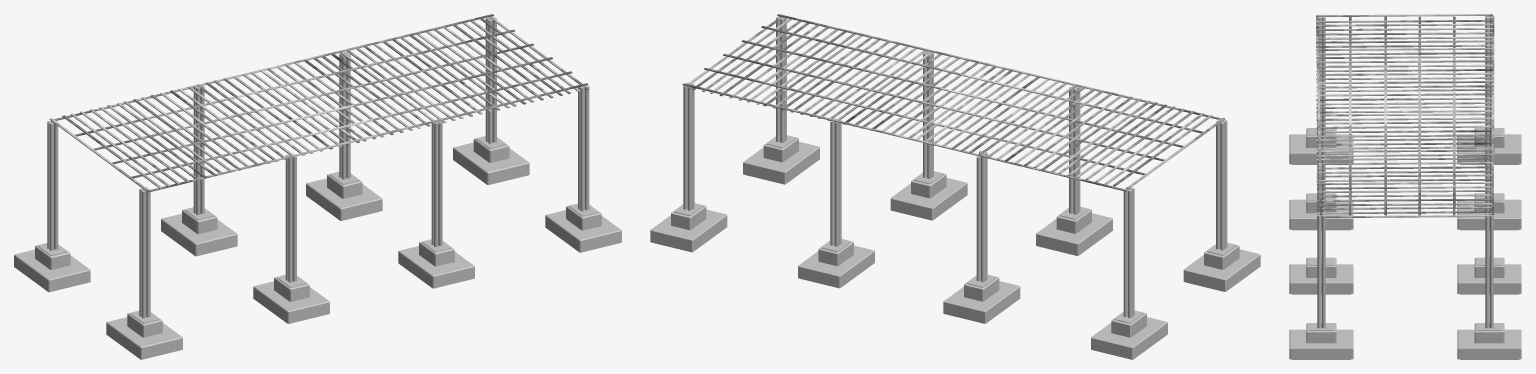
The model's file is Toldo.fbx.
3 views of the same model, side by side, from view 1: azimuth 30°, elevation 25°; view 2: azimuth 150°, elevation 25°; view 3: azimuth 270°, elevation 25° (orthographic). The views are drawn at different scales.
Visible parts, largest first — view 1: polySurface57, Bancos_inferiores, polySurface74; view 2: polySurface57, Bancos_inferiores, polySurface74; view 3: polySurface57, Bancos_inferiores, polySurface74.
Boxes of the visible parts, x1,y1,x2,y2 form: polySurface57: [49, 14, 589, 192]; Bancos_inferiores: [14, 136, 621, 359]; polySurface74: [47, 16, 589, 318]; polySurface57: [682, 14, 1225, 191]; Bancos_inferiores: [650, 135, 1260, 359]; polySurface74: [683, 16, 1227, 318]; polySurface57: [1316, 14, 1494, 218]; Bancos_inferiores: [1289, 128, 1521, 359]; polySurface74: [1317, 14, 1493, 328].
Bounding box in the file's own units: 2038 × 630 × 936.
